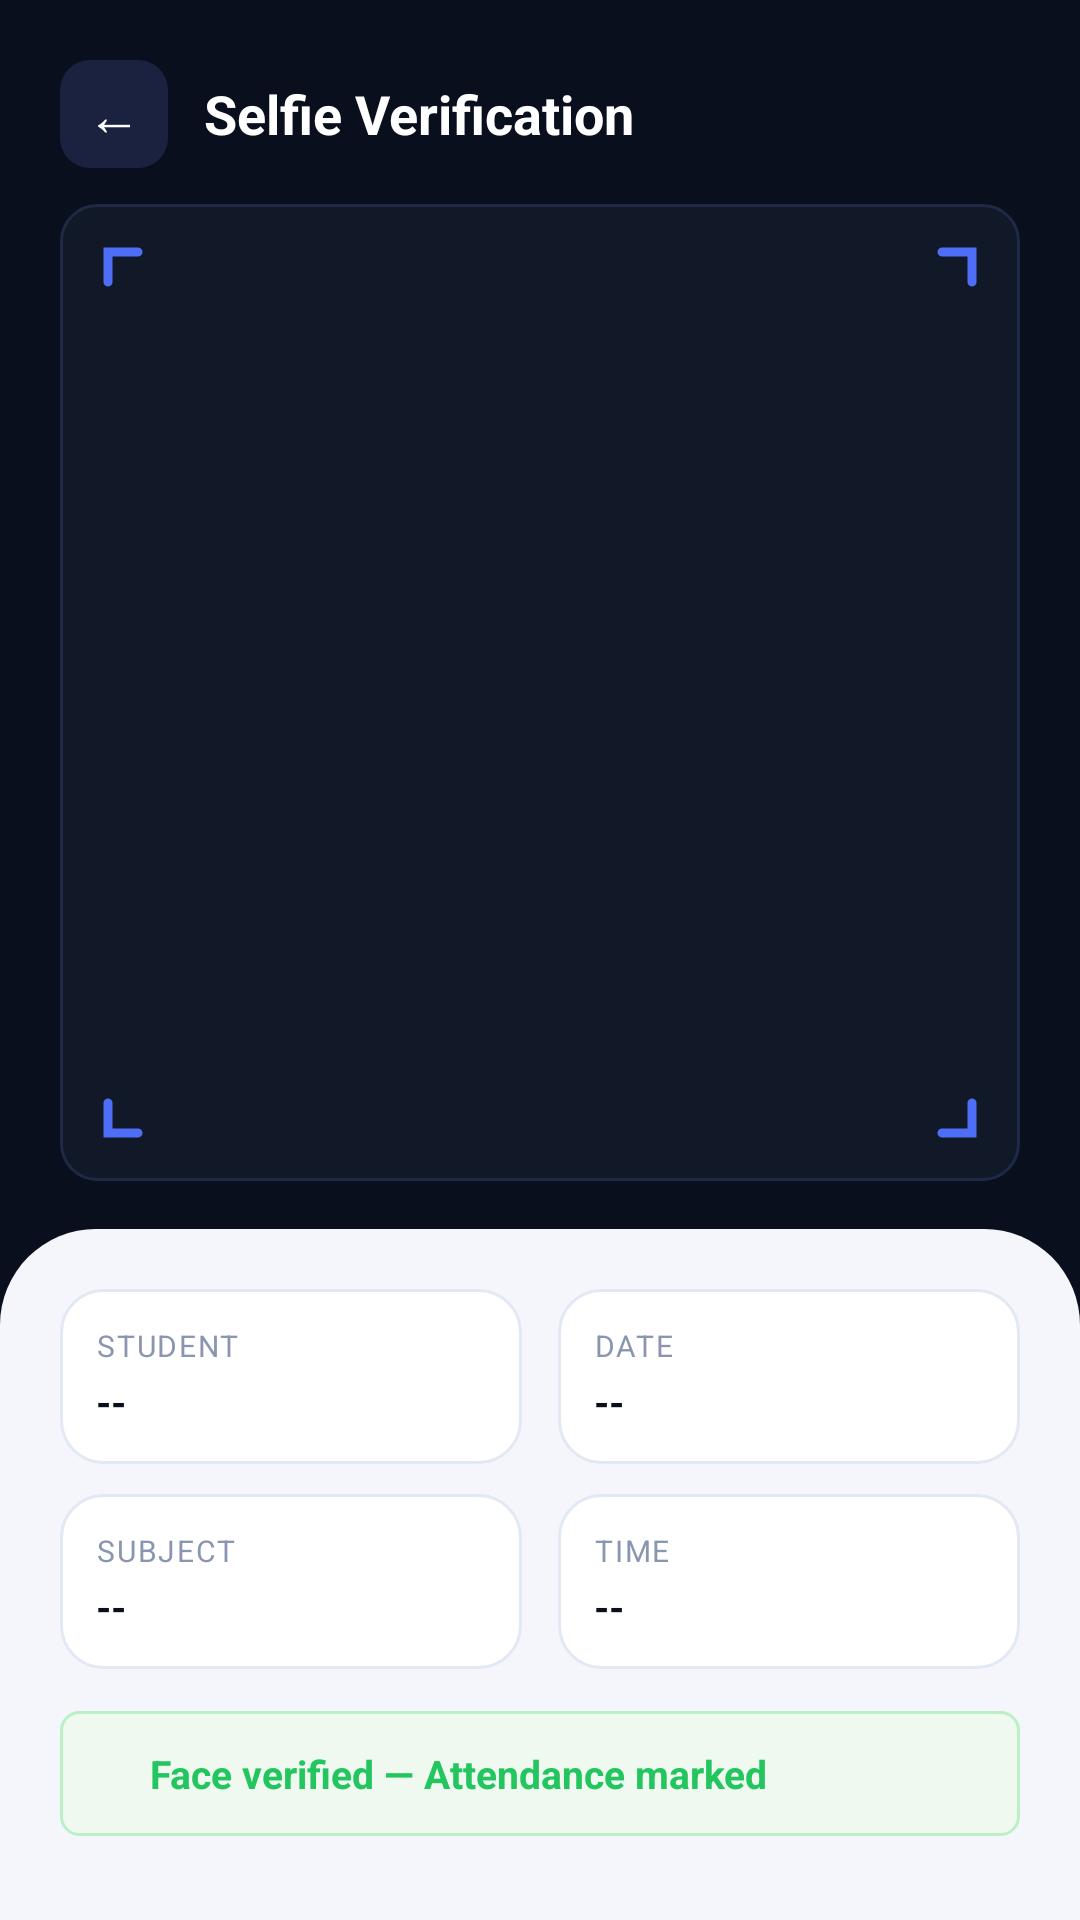

Screen size 1080px x 1920px. Icon name, then its center in pixels as [x,y]:
corner bl: [123,1118]
corner br: [957,1118]
corner tl: [123,267]
corner tr: [957,267]
